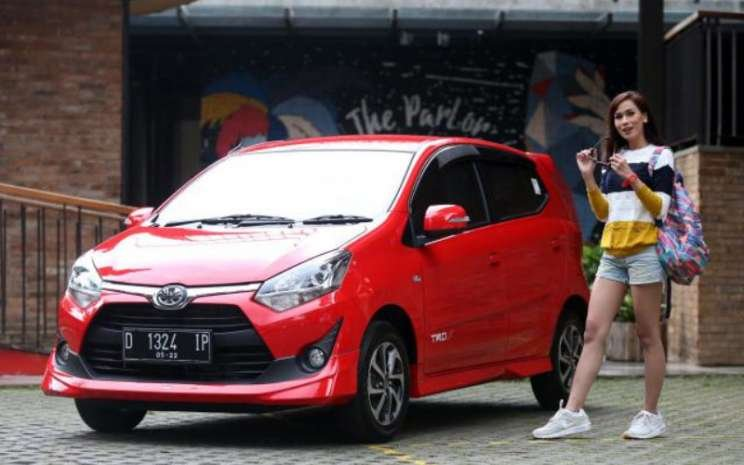mobil: (59, 121, 584, 437)
